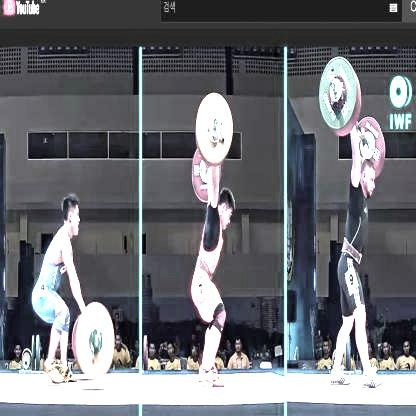Barbell: (93, 334, 101, 351), (329, 80, 338, 95), (211, 115, 219, 131)
